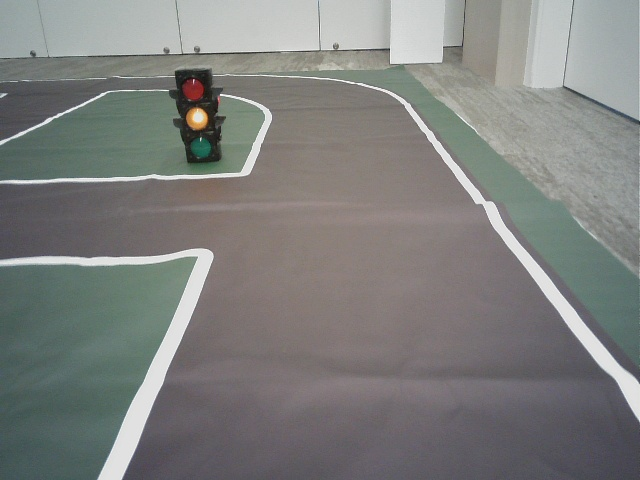yellow: (175, 70, 216, 158)
